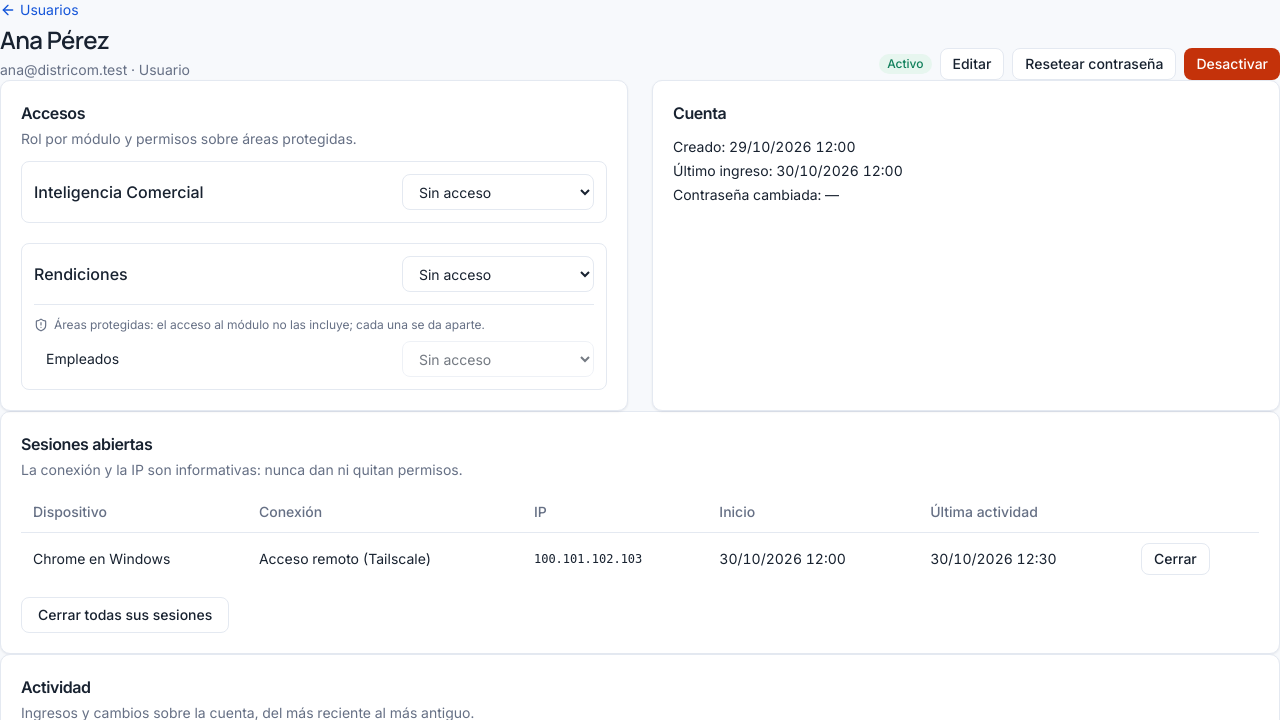
Test: UserDetail › shows the backend's refusal
The image size is (1280, 720).
Click the button "Desactivar": [1232, 64] box 1184,48 -> 1279,80
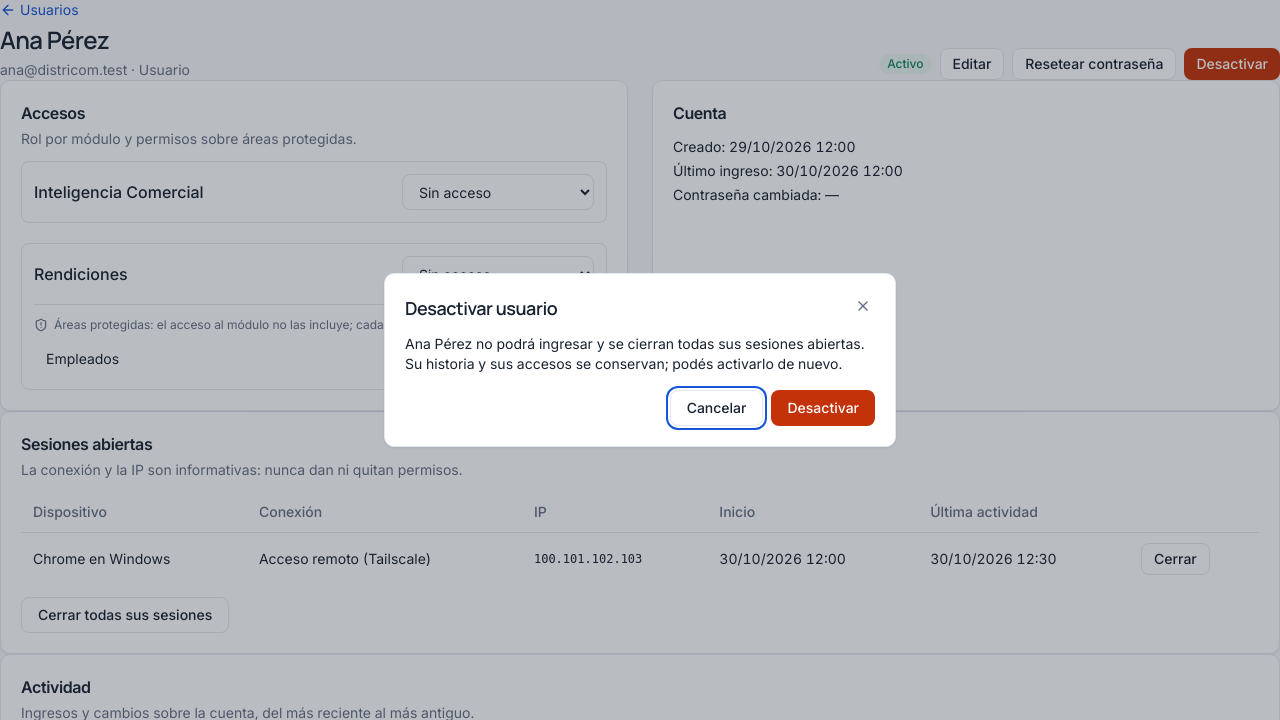
Click the button "Desactivar": [823, 408] box 772,390 -> 875,426
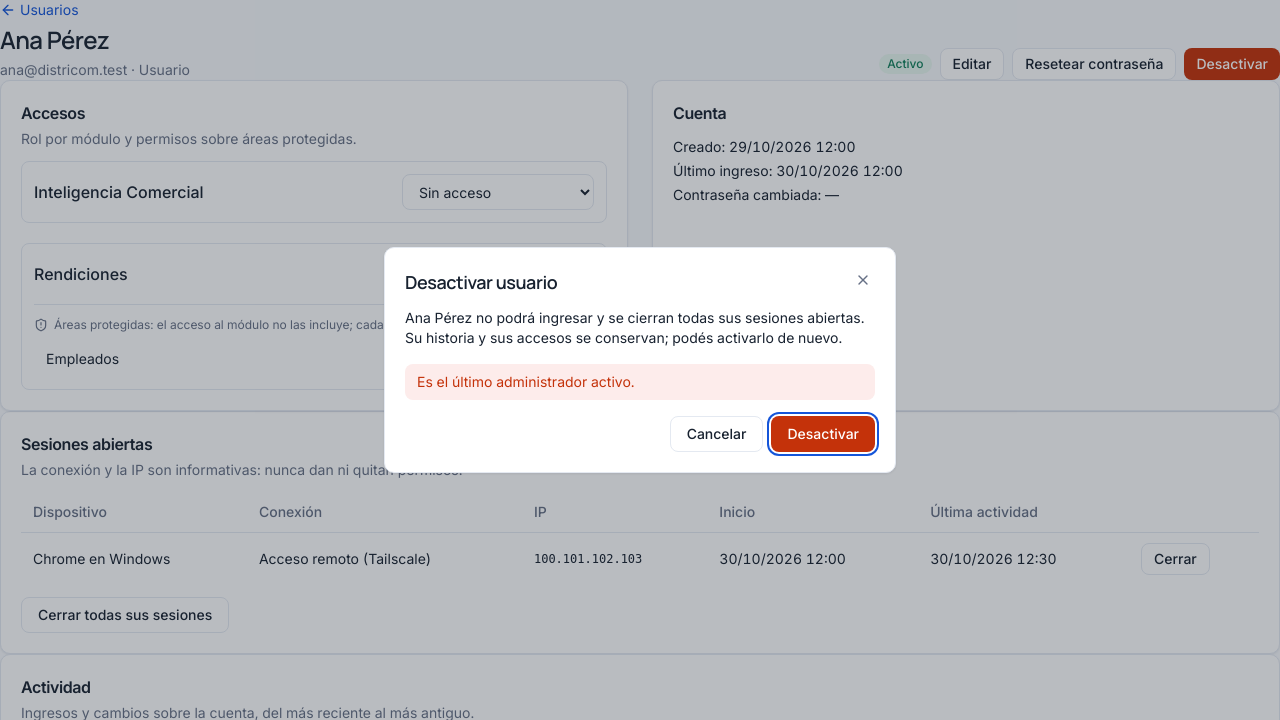
Now the message reads "Es el último administrador activo.", box 417,373 -> 635,390
